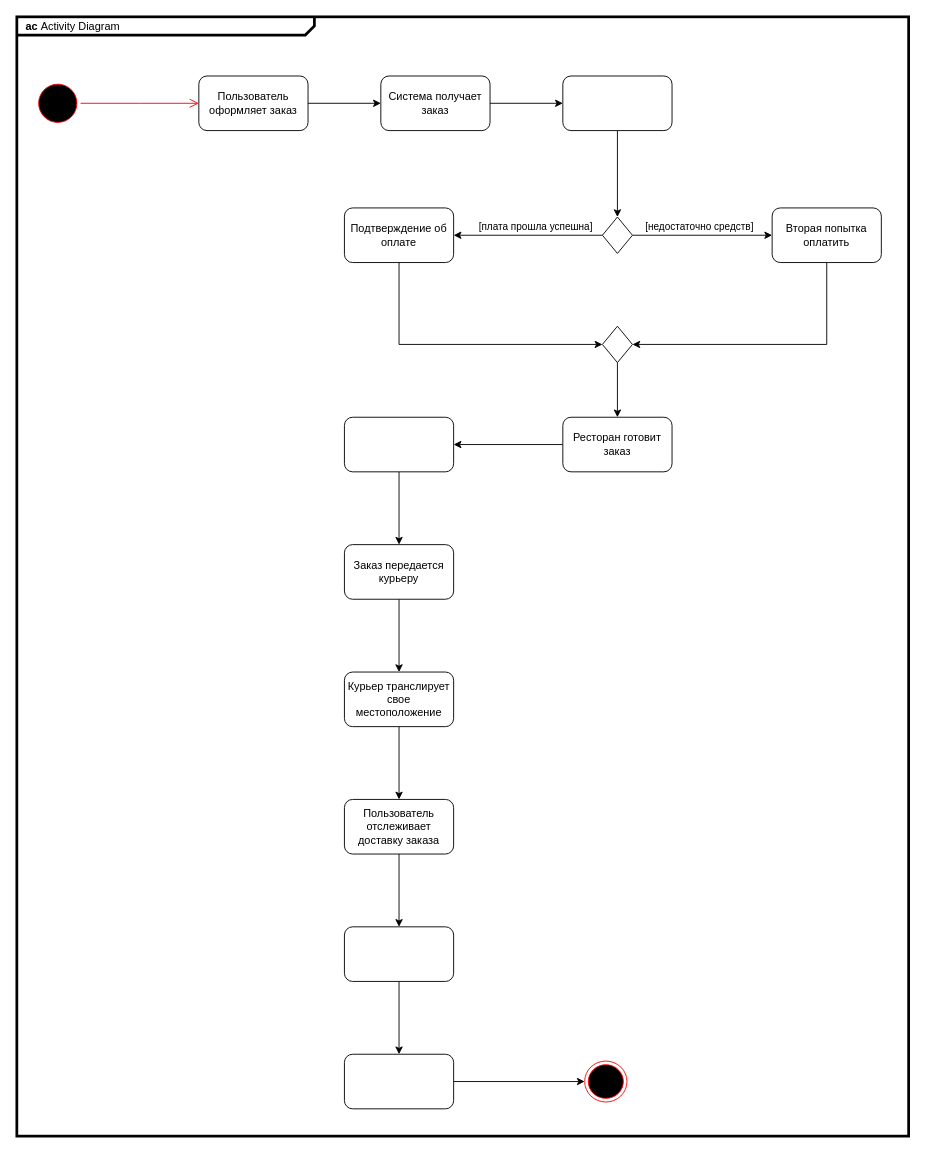
Image size: 925x1153. Some labels were removed from this diagram. The shapes that lost their labels are listed below. From the top down, each one's centre as x and y in pixels, then its label:
At (617,103): "Пользователь оплачивает заказ".
At (399,444): "Система проверяет доступность курьера".
At (399,953): "Курьер доставляет заказ".
At (399,1081): "Заказ доставлен пользователю".
